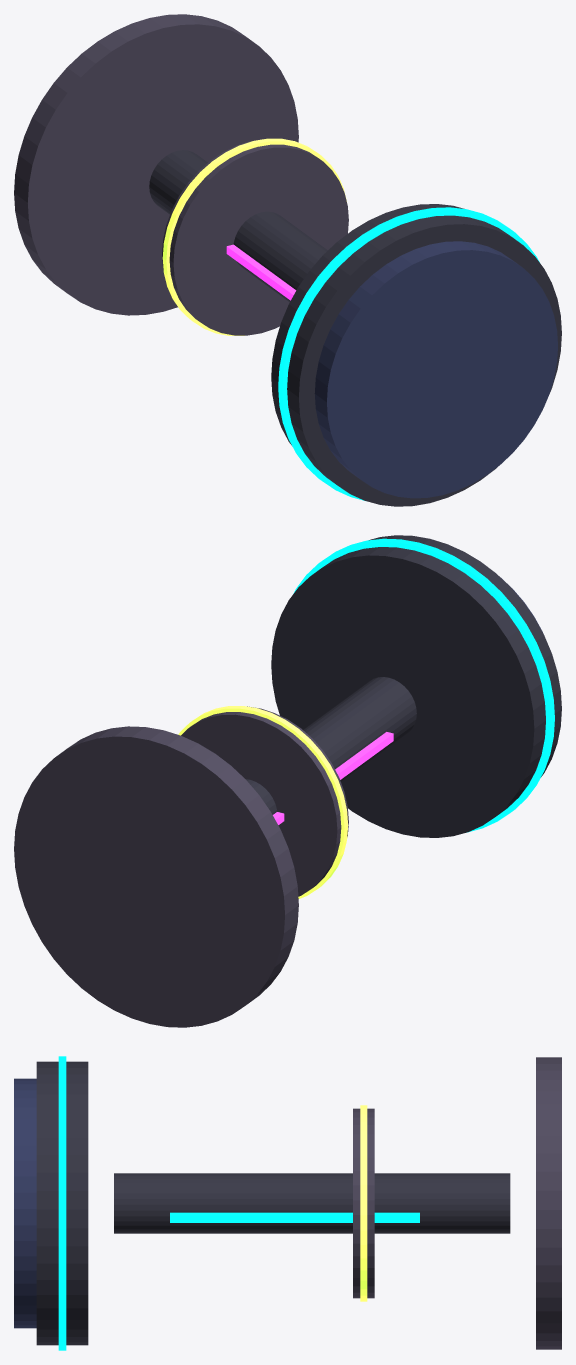
Rendered from pedestal_barstool.glb.
3 renders of one model, top to bottom at view 1: azimuth 30°, elevation 25°; view 2: azimuth 150°, elevation 25°; view 3: azimuth 270°, elevation 25°, orthographic. The views are drawn at different scales.
Visible parts, largest first — view 1: base_disc, dark_non_glowing_cushion, footrest_collar_metal, seat_hard_shell, center_pole, seat_outer_trim_band_cyan, footrest_trim_band_green, attached_pole_trim_back; view 2: base_disc, seat_hard_shell, footrest_collar_metal, center_pole, seat_outer_trim_band_cyan, footrest_trim_band_green, attached_pole_trim_back; view 3: center_pole, seat_hard_shell, base_disc, dark_non_glowing_cushion, footrest_collar_metal, seat_outer_trim_band_cyan, attached_pole_trim_front, footrest_trim_band_green.
Part boxes in pixels (x1,y1,x2,y2): base_disc: (14, 14, 298, 315); dark_non_glowing_cushion: (314, 241, 557, 498); footrest_collar_metal: (162, 139, 348, 335); seat_hard_shell: (271, 204, 561, 506); center_pole: (149, 150, 327, 302); seat_outer_trim_band_cyan: (278, 207, 539, 500); footrest_trim_band_green: (162, 138, 346, 335); attached_pole_trim_back: (226, 244, 296, 300); base_disc: (14, 726, 298, 1027); seat_hard_shell: (271, 535, 561, 837); footrest_collar_metal: (181, 706, 348, 896); center_pole: (245, 677, 416, 814); seat_outer_trim_band_cyan: (293, 538, 554, 832); footrest_trim_band_green: (178, 706, 348, 898); attached_pole_trim_back: (273, 732, 393, 824); center_pole: (114, 1173, 510, 1233); seat_hard_shell: (36, 1061, 88, 1345); base_disc: (536, 1057, 561, 1349); dark_non_glowing_cushion: (14, 1078, 36, 1328); footrest_collar_metal: (353, 1108, 374, 1298); seat_outer_trim_band_cyan: (58, 1056, 66, 1350); attached_pole_trim_front: (170, 1212, 419, 1222); footrest_trim_band_green: (360, 1105, 367, 1301).
Bounding box in the file's own units: 0.684 × 0.684 × 1.27.
